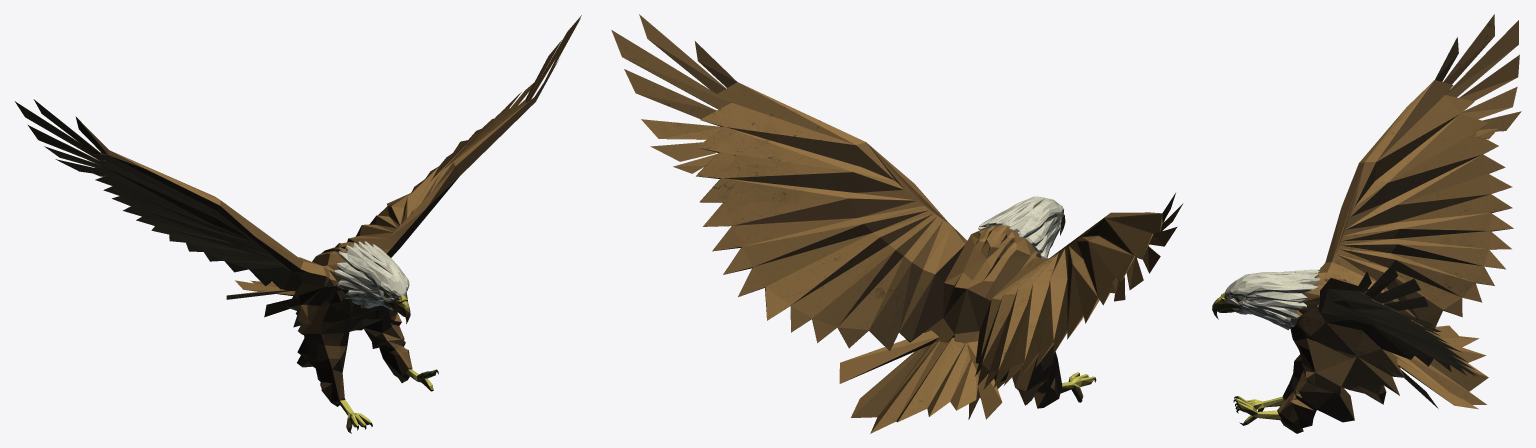
File: pixeled_eagle.glb
3 renders of one model, left to right at view 1: azimuth 30°, elevation 25°; view 2: azimuth 150°, elevation 25°; view 3: azimuth 270°, elevation 25°, orthographic. The views are drawn at different scales.
Parts seen in each view (by area): view 1: eagle.1_1; view 2: eagle.1_1; view 3: eagle.1_1.
Boxes of the visible parts, <box> form: eagle.1_1: <box>14,15,581,433</box>; eagle.1_1: <box>611,14,1183,433</box>; eagle.1_1: <box>1212,14,1521,433</box>.
Bounding box in the file's own units: 3.39 × 1.87 × 1.73.
1 material, 1 textured.
